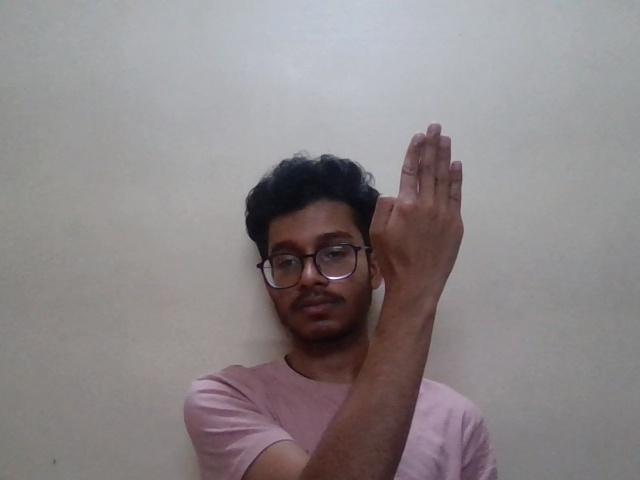good-bye: (368, 124, 491, 329)
